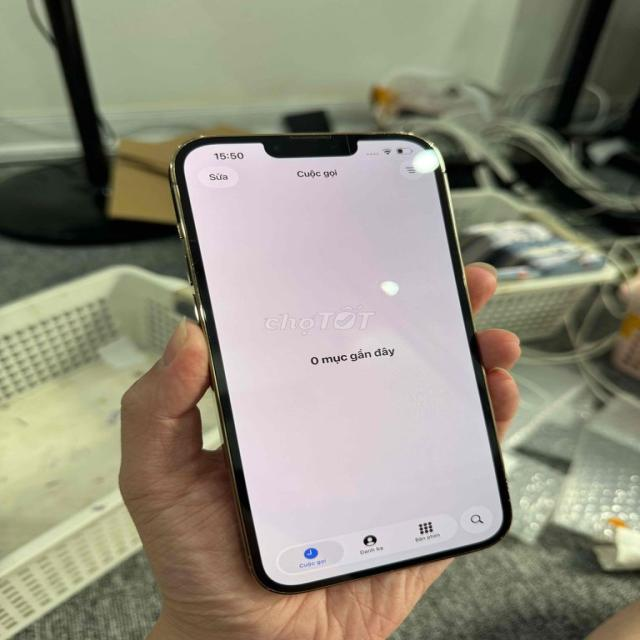gen_12_13: (164, 129, 514, 582)
